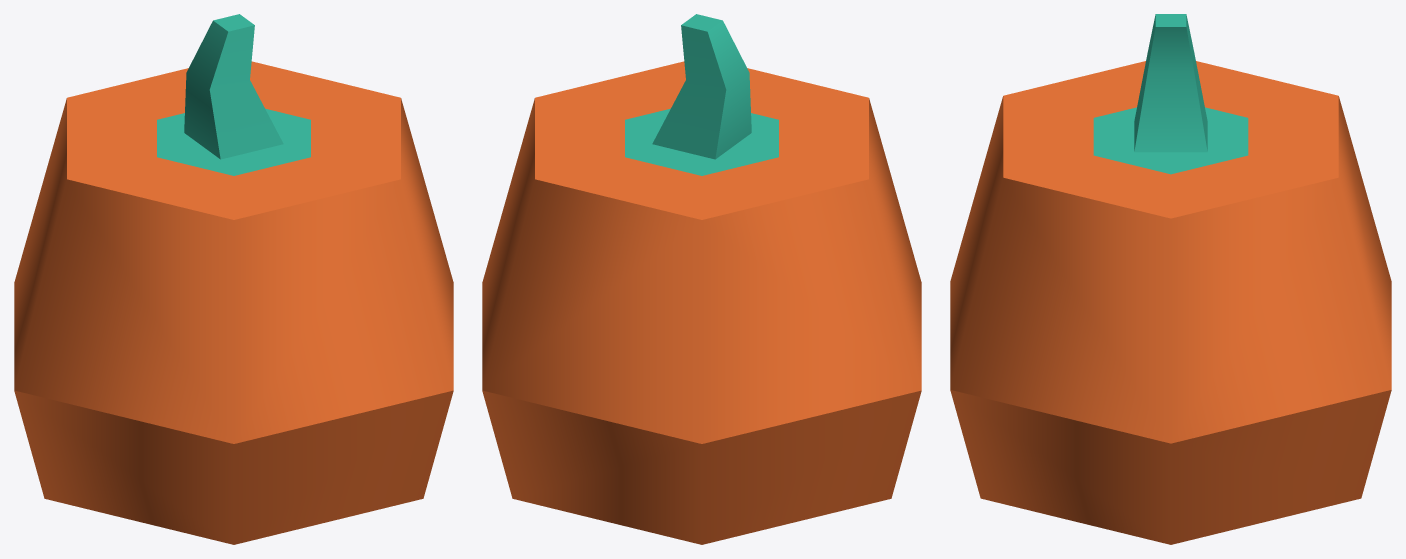
The model's file is pumpkinTall.obj.
The picture shows the model from 3 angles, left to right: view 1: azimuth 30°, elevation 25°; view 2: azimuth 150°, elevation 25°; view 3: azimuth 270°, elevation 25°; orthographic projection.
Visible parts, largest first — view 1: pumpkinTall; view 2: pumpkinTall; view 3: pumpkinTall.
Part boxes in pixels (left/top/right/bottom): pumpkinTall: left=14, top=14, right=453, bottom=544; pumpkinTall: left=482, top=14, right=921, bottom=544; pumpkinTall: left=950, top=14, right=1391, bottom=544.
Size of the model in its own units: 0.2784 by 0.26 by 0.2411.
